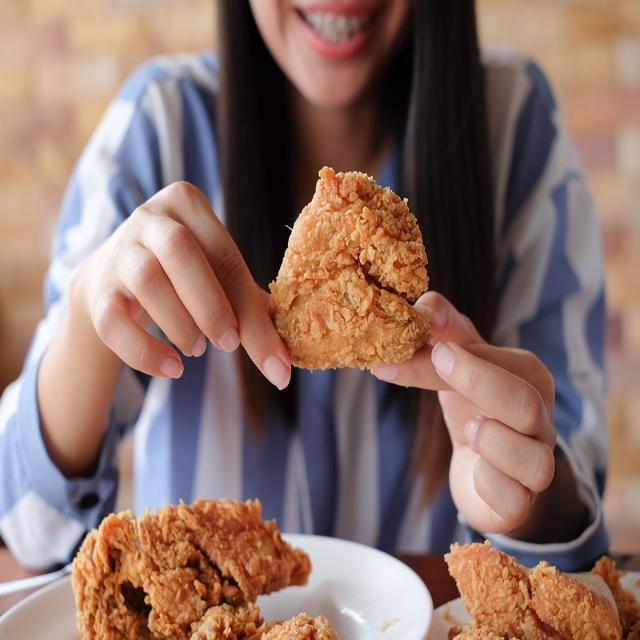Frango: (72, 488, 334, 640), (446, 529, 640, 640)
